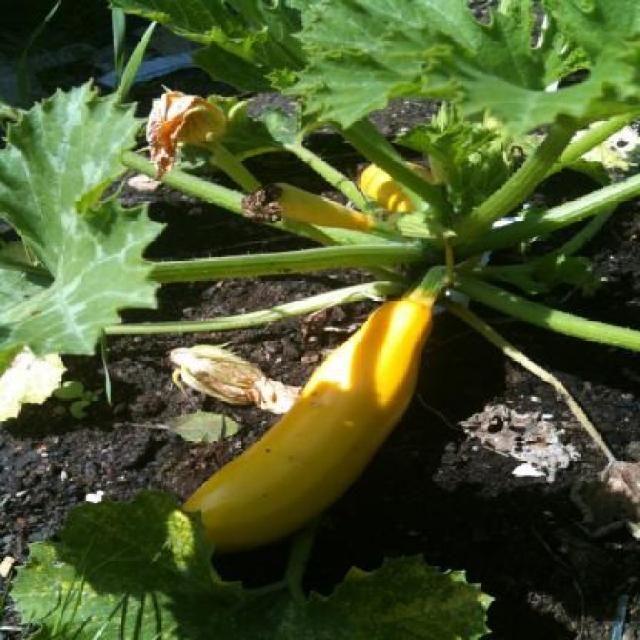Zucchini: (158, 266, 450, 563), (342, 153, 444, 215)
